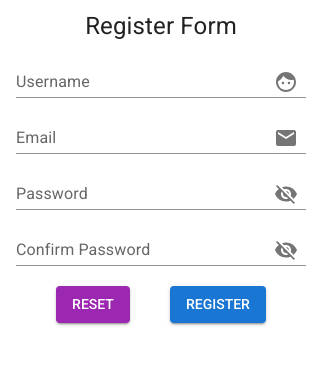
Test: RegisterForm component › Triggers form field validations › the provided email should be valid email
In the field labelled "Email": (137, 138) 16,122 -> 258,154, type "invalidEmailText"
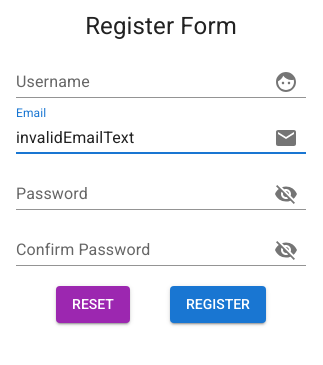
Click the button "Register": (218, 304) 170,286 -> 266,322
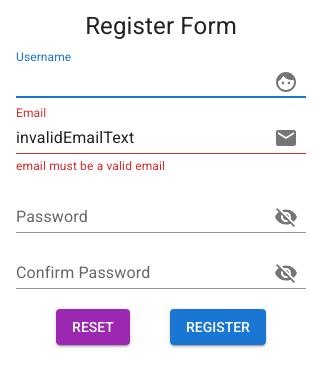
Expected: the text "email must be a valid email" is shown, 16,159 -> 165,173
